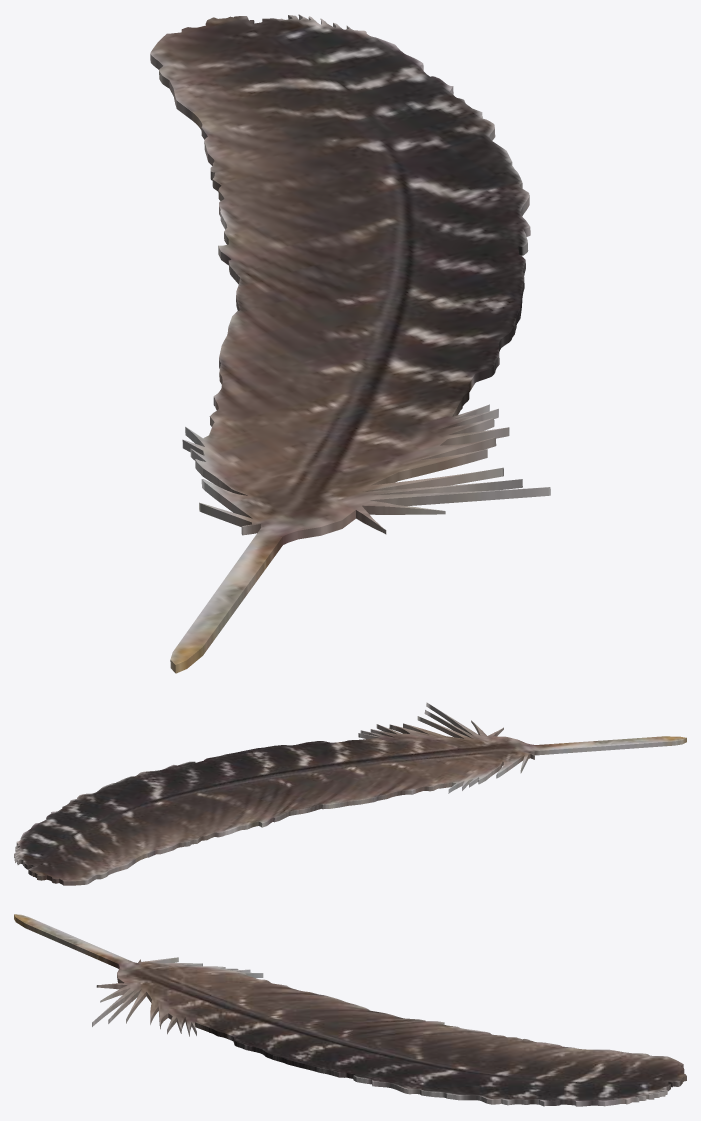
The model's file is quill.fbx.
3 renders of one model, top to bottom at view 1: azimuth 30°, elevation 25°; view 2: azimuth 150°, elevation 25°; view 3: azimuth 270°, elevation 25°, orthographic. The views are drawn at different scales.
Visible parts, largest first — view 1: quill new; view 2: quill new; view 3: quill new.
Part boxes in pixels (bbox=[...]): quill new: bbox=[150, 14, 550, 673]; quill new: bbox=[14, 702, 686, 885]; quill new: bbox=[14, 914, 686, 1106].
Size of the model in its own units: 21.29 by 30 by 0.9252.
1 material, 1 textured.
